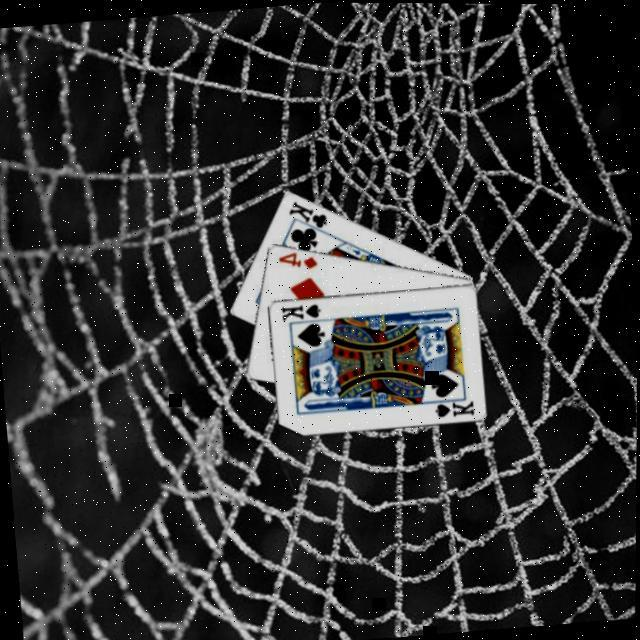4D: (275, 244, 321, 271)
KC: (284, 192, 331, 236)
KS: (428, 389, 478, 417), (279, 297, 325, 321)
